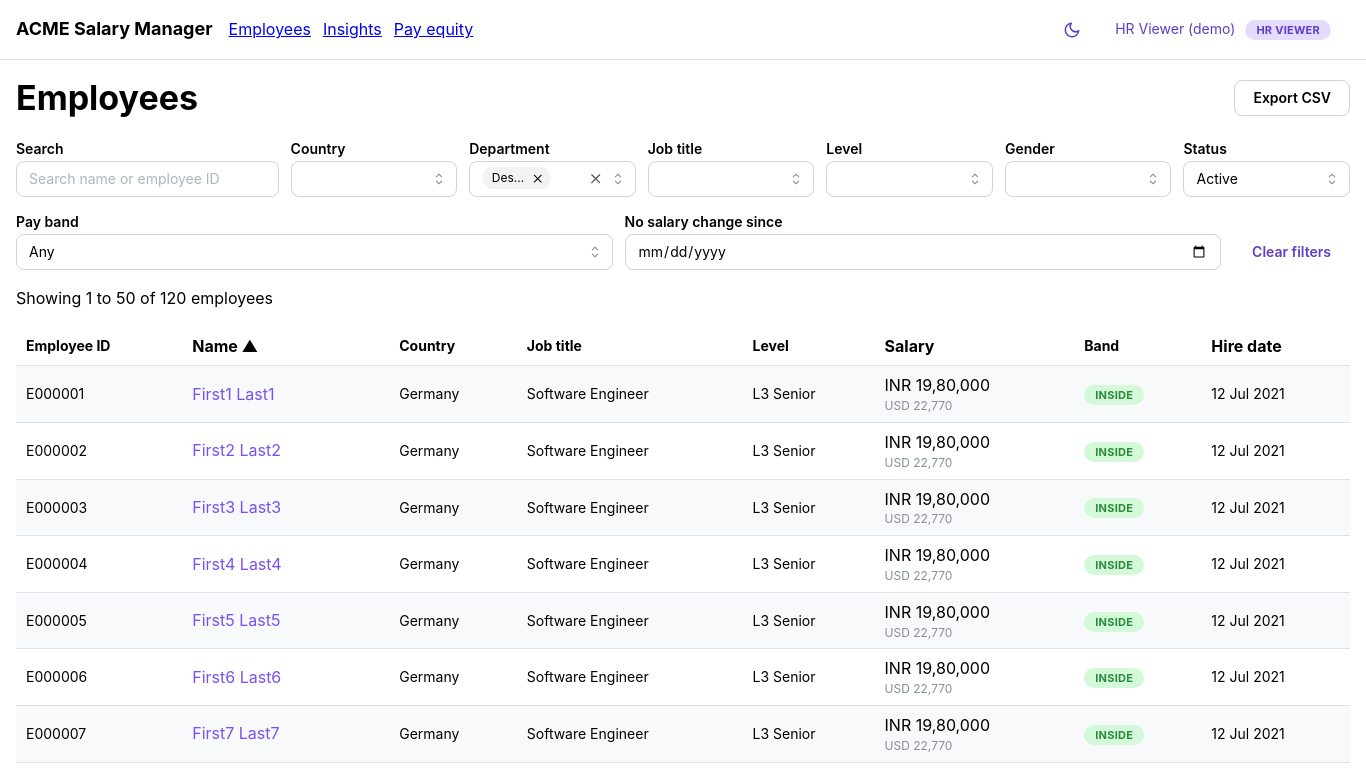
Scenario: employee list filters (04 sections 8.3 and 8.5) › narrows the job title options to the chosen departments
Click the dropdown labelled "Job title": (675,149) [648, 138, 702, 160]
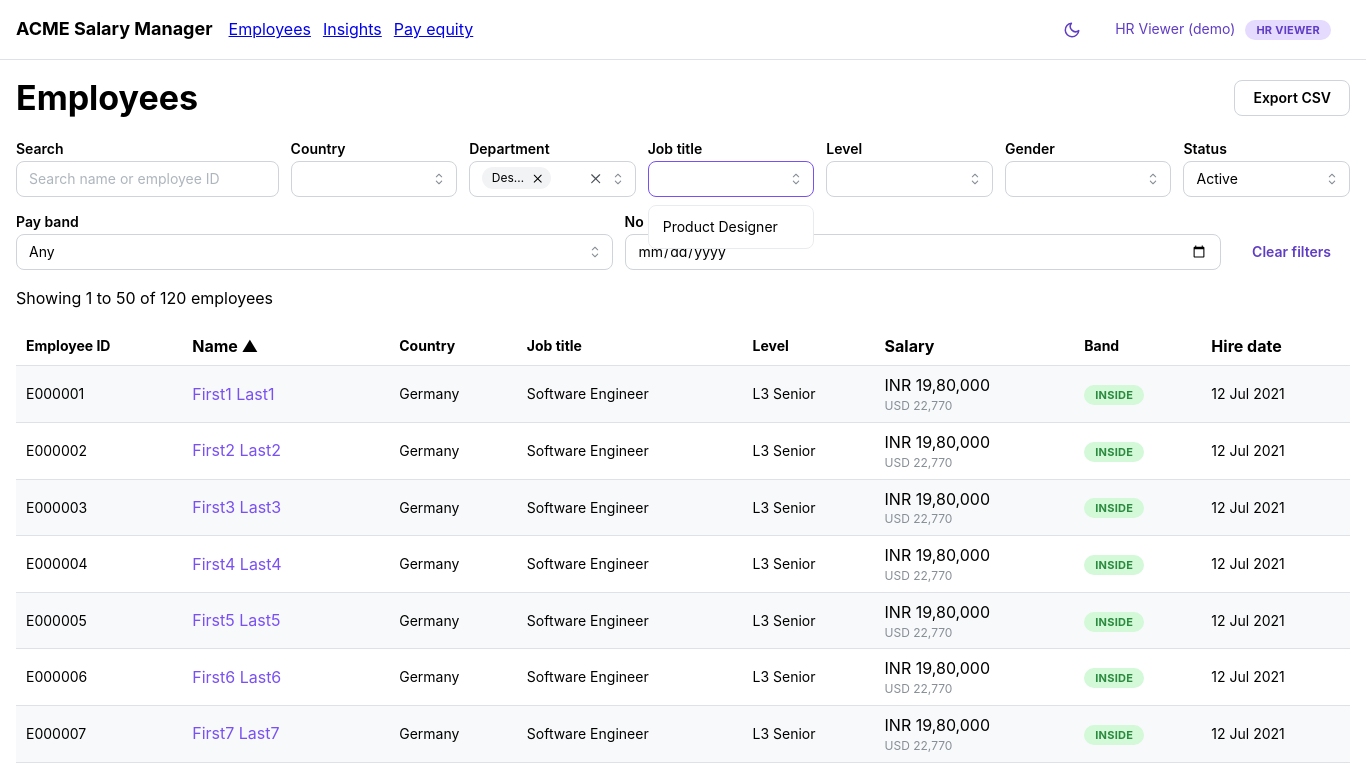
Now the option "Product Designer" is shown, box [663, 218, 778, 235]
